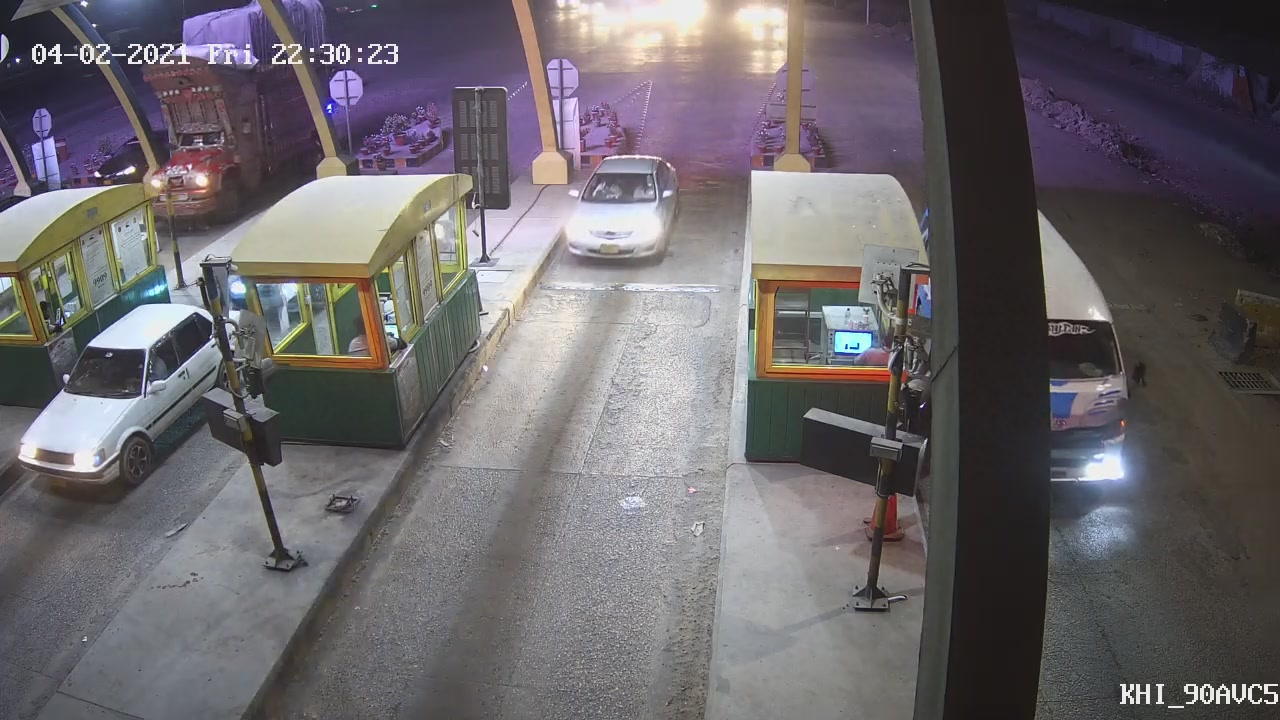F1: (560, 141, 689, 269)
